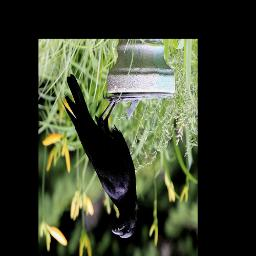Crow: (61, 72, 139, 239)
